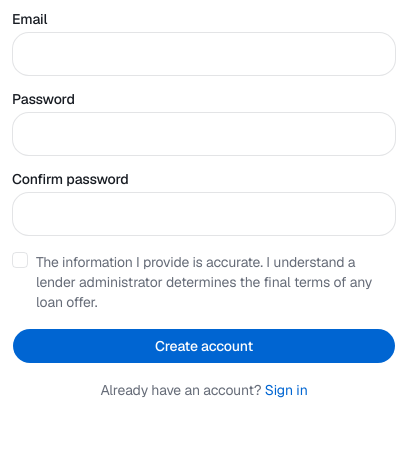
SignupForm › rejects an unchecked accuracy declaration
This screenshot has width=416, height=451.
Type "new@example.com" into the field labelled "Email" at point(204, 54), box [12, 32, 396, 76]
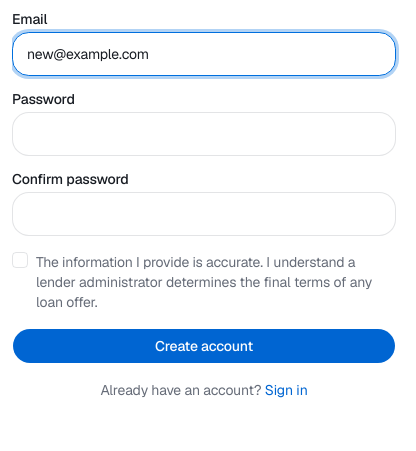
Type "a-strong-password-1" into the password field labelled "Password" at point(204, 134), box [12, 112, 396, 156]
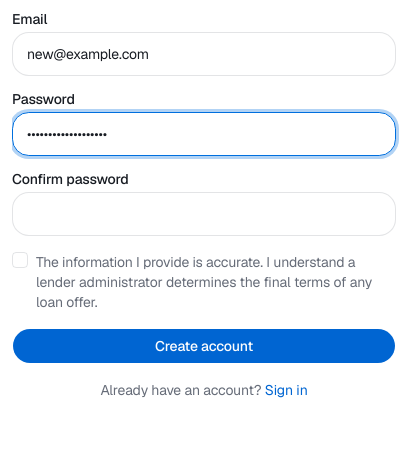
Type "a-strong-password-1" into the password field labelled "Confirm password" at point(204, 214), box [12, 192, 396, 236]
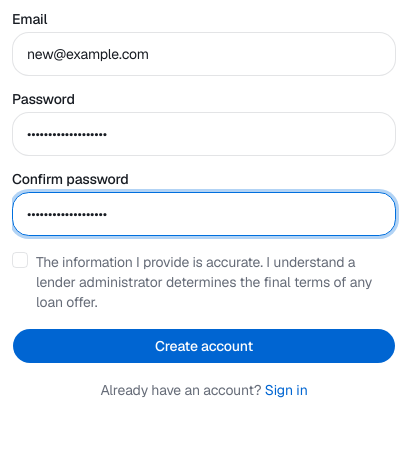
Click the button "Create account" at point(204, 346), box [12, 328, 396, 364]
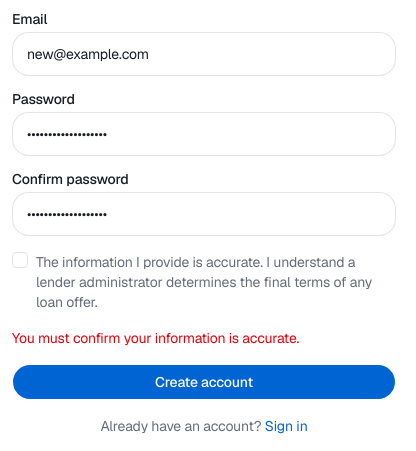
Check: the text "You must confirm your information is accurate." is shown, box [12, 329, 299, 347]
